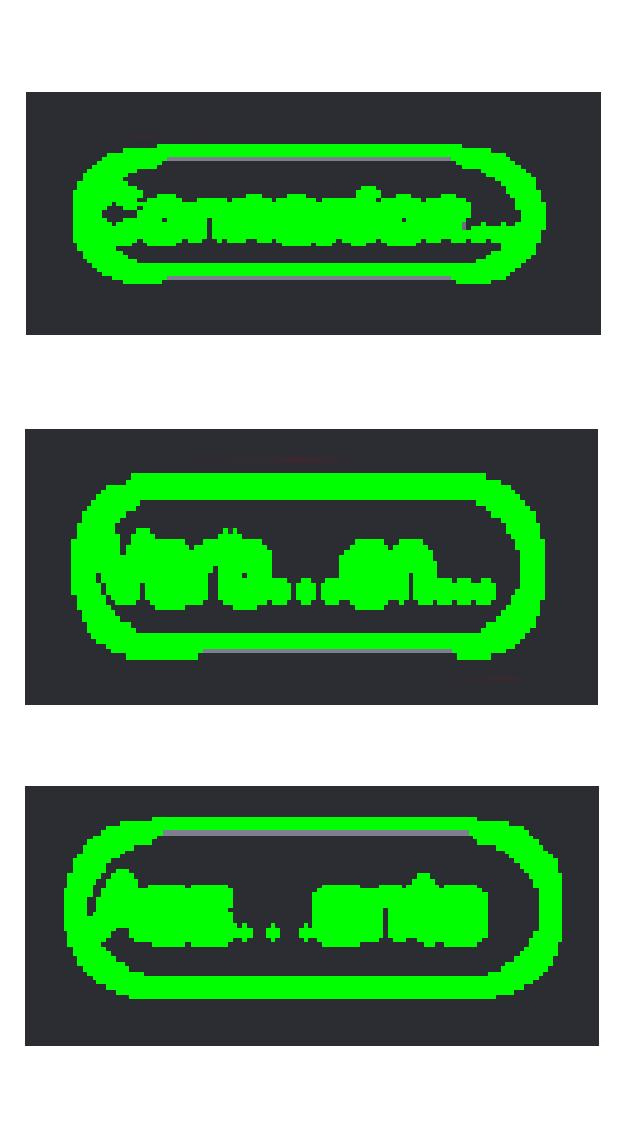WS1: (52, 489, 141, 674), (58, 149, 143, 295), (486, 146, 556, 290), (50, 820, 102, 993)
